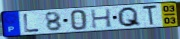0: (69, 9, 88, 31)
8: (44, 11, 63, 32)
H: (90, 8, 113, 30)
L: (23, 13, 41, 33)
Q: (116, 6, 142, 28)
T: (142, 4, 159, 27)
